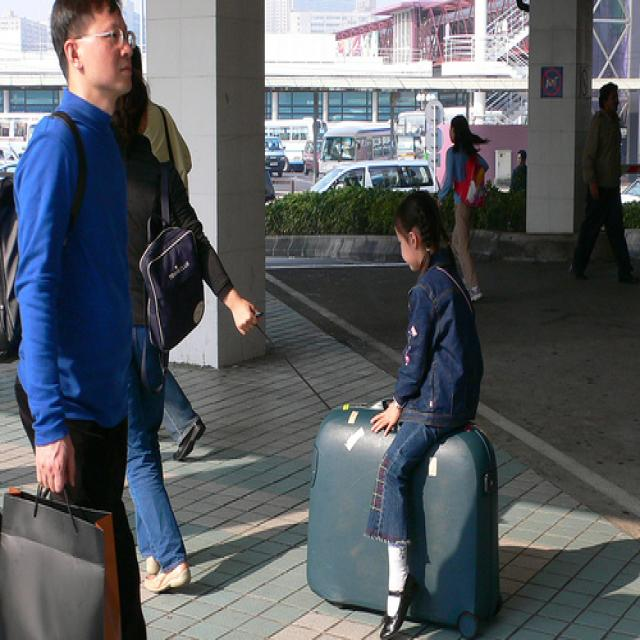Vehicle: (318, 122, 398, 181), (308, 160, 442, 194), (265, 137, 286, 177), (303, 140, 322, 175), (621, 174, 639, 201)
